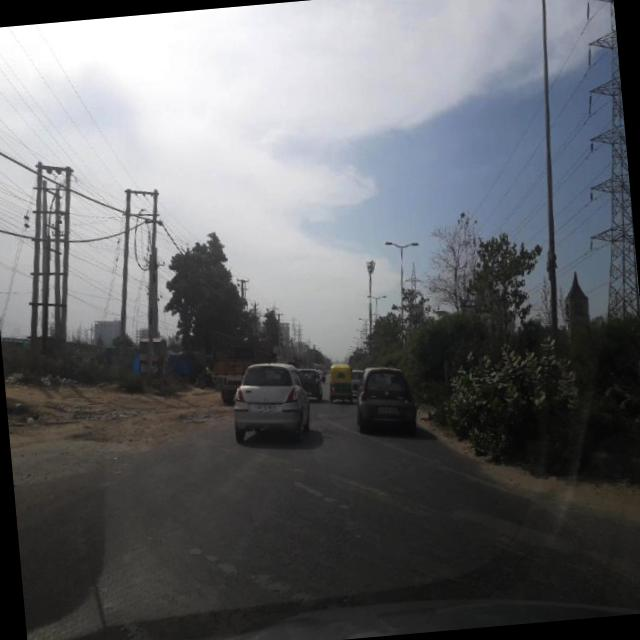crack: (29, 445, 610, 640)
